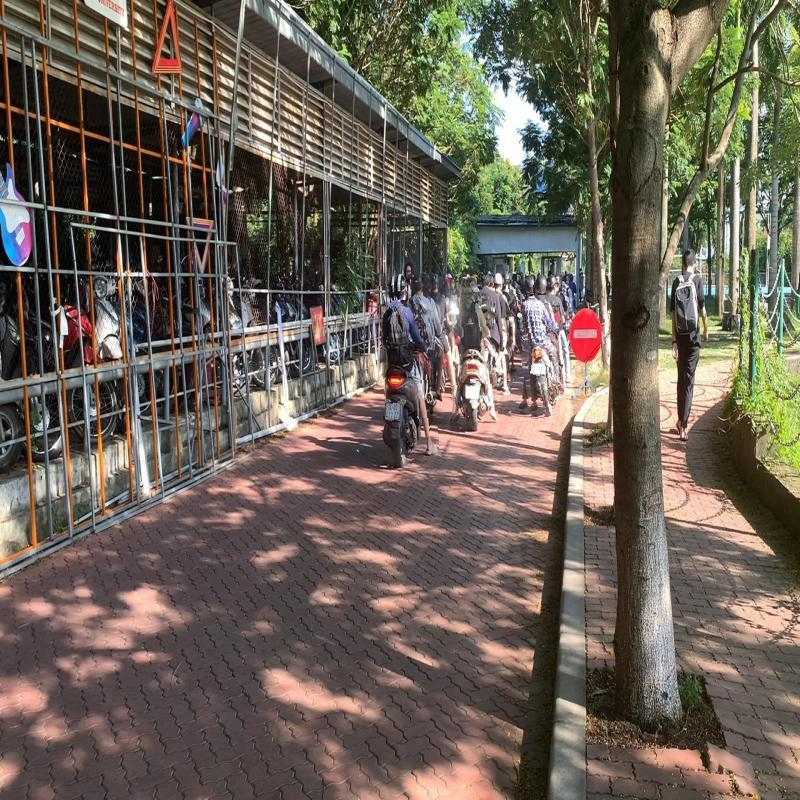helmet: (394, 274, 408, 300), (464, 277, 478, 297), (534, 275, 548, 295)
licenseplate: (386, 401, 401, 420), (465, 383, 477, 400), (531, 362, 542, 375)
motorcyclist: (381, 274, 438, 468), (447, 276, 497, 434), (513, 275, 562, 418)
